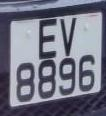6: (76, 50, 98, 95)
8: (13, 59, 38, 104), (36, 56, 60, 101)
9: (56, 56, 78, 98)
E: (37, 16, 60, 60)
V: (58, 16, 80, 59)
